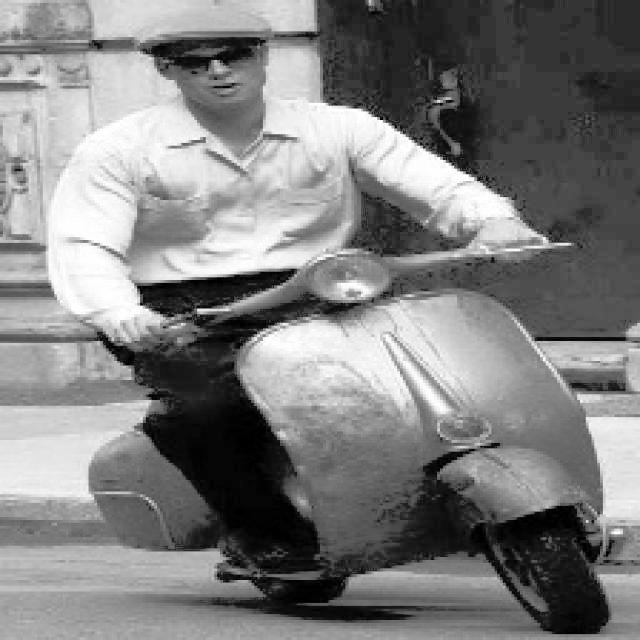Bike: (45, 272, 627, 636)
